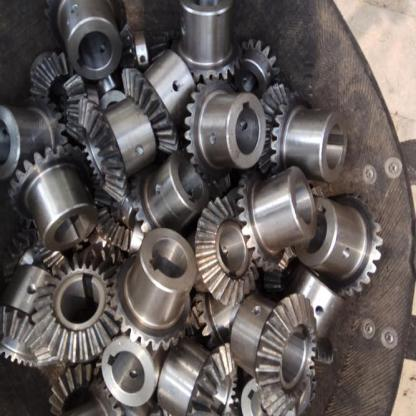FOD: (30, 260, 120, 367), (252, 291, 320, 415), (194, 190, 262, 308), (76, 93, 128, 205)
